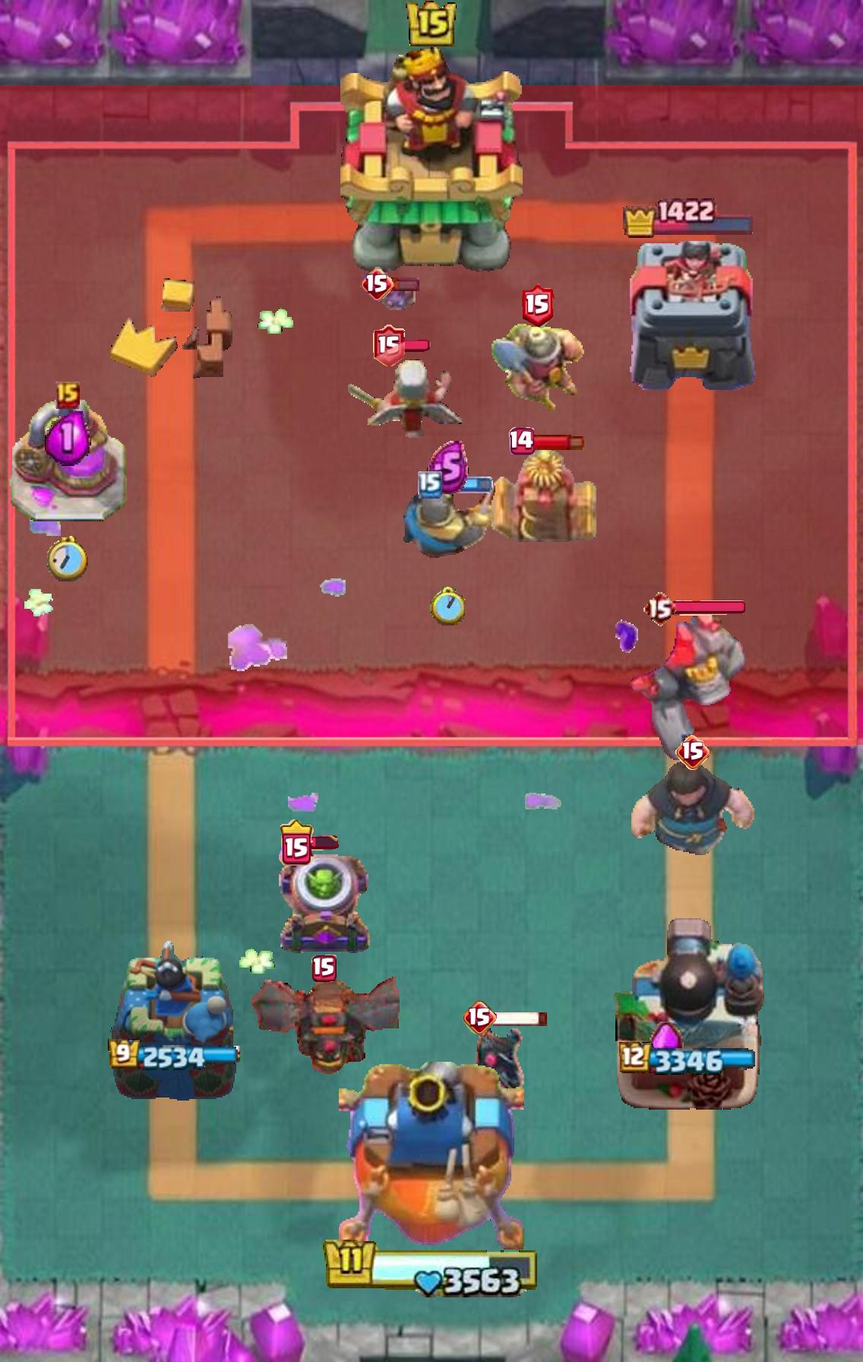bar: (672, 600, 745, 616), (531, 432, 584, 451), (493, 1010, 549, 1027), (391, 277, 420, 292), (310, 835, 339, 850), (401, 339, 431, 352)
bar-level: (278, 819, 314, 865), (522, 283, 554, 328), (373, 324, 405, 366), (360, 267, 395, 302), (675, 735, 710, 770), (463, 1001, 497, 1036), (643, 590, 676, 626), (509, 427, 535, 455), (55, 382, 80, 409), (311, 955, 336, 982)
